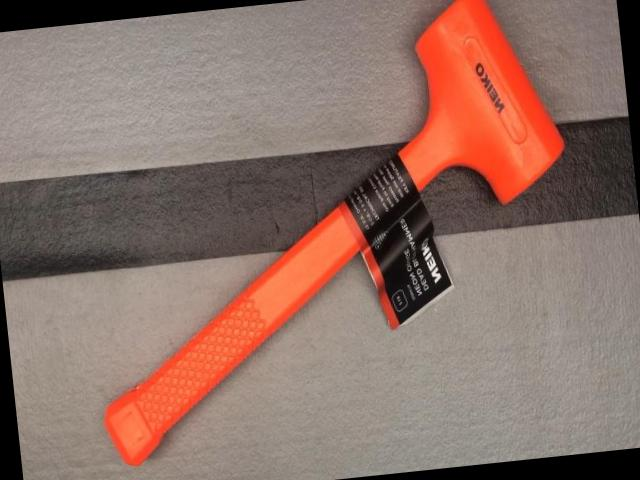hammer: (64, 0, 590, 466)
